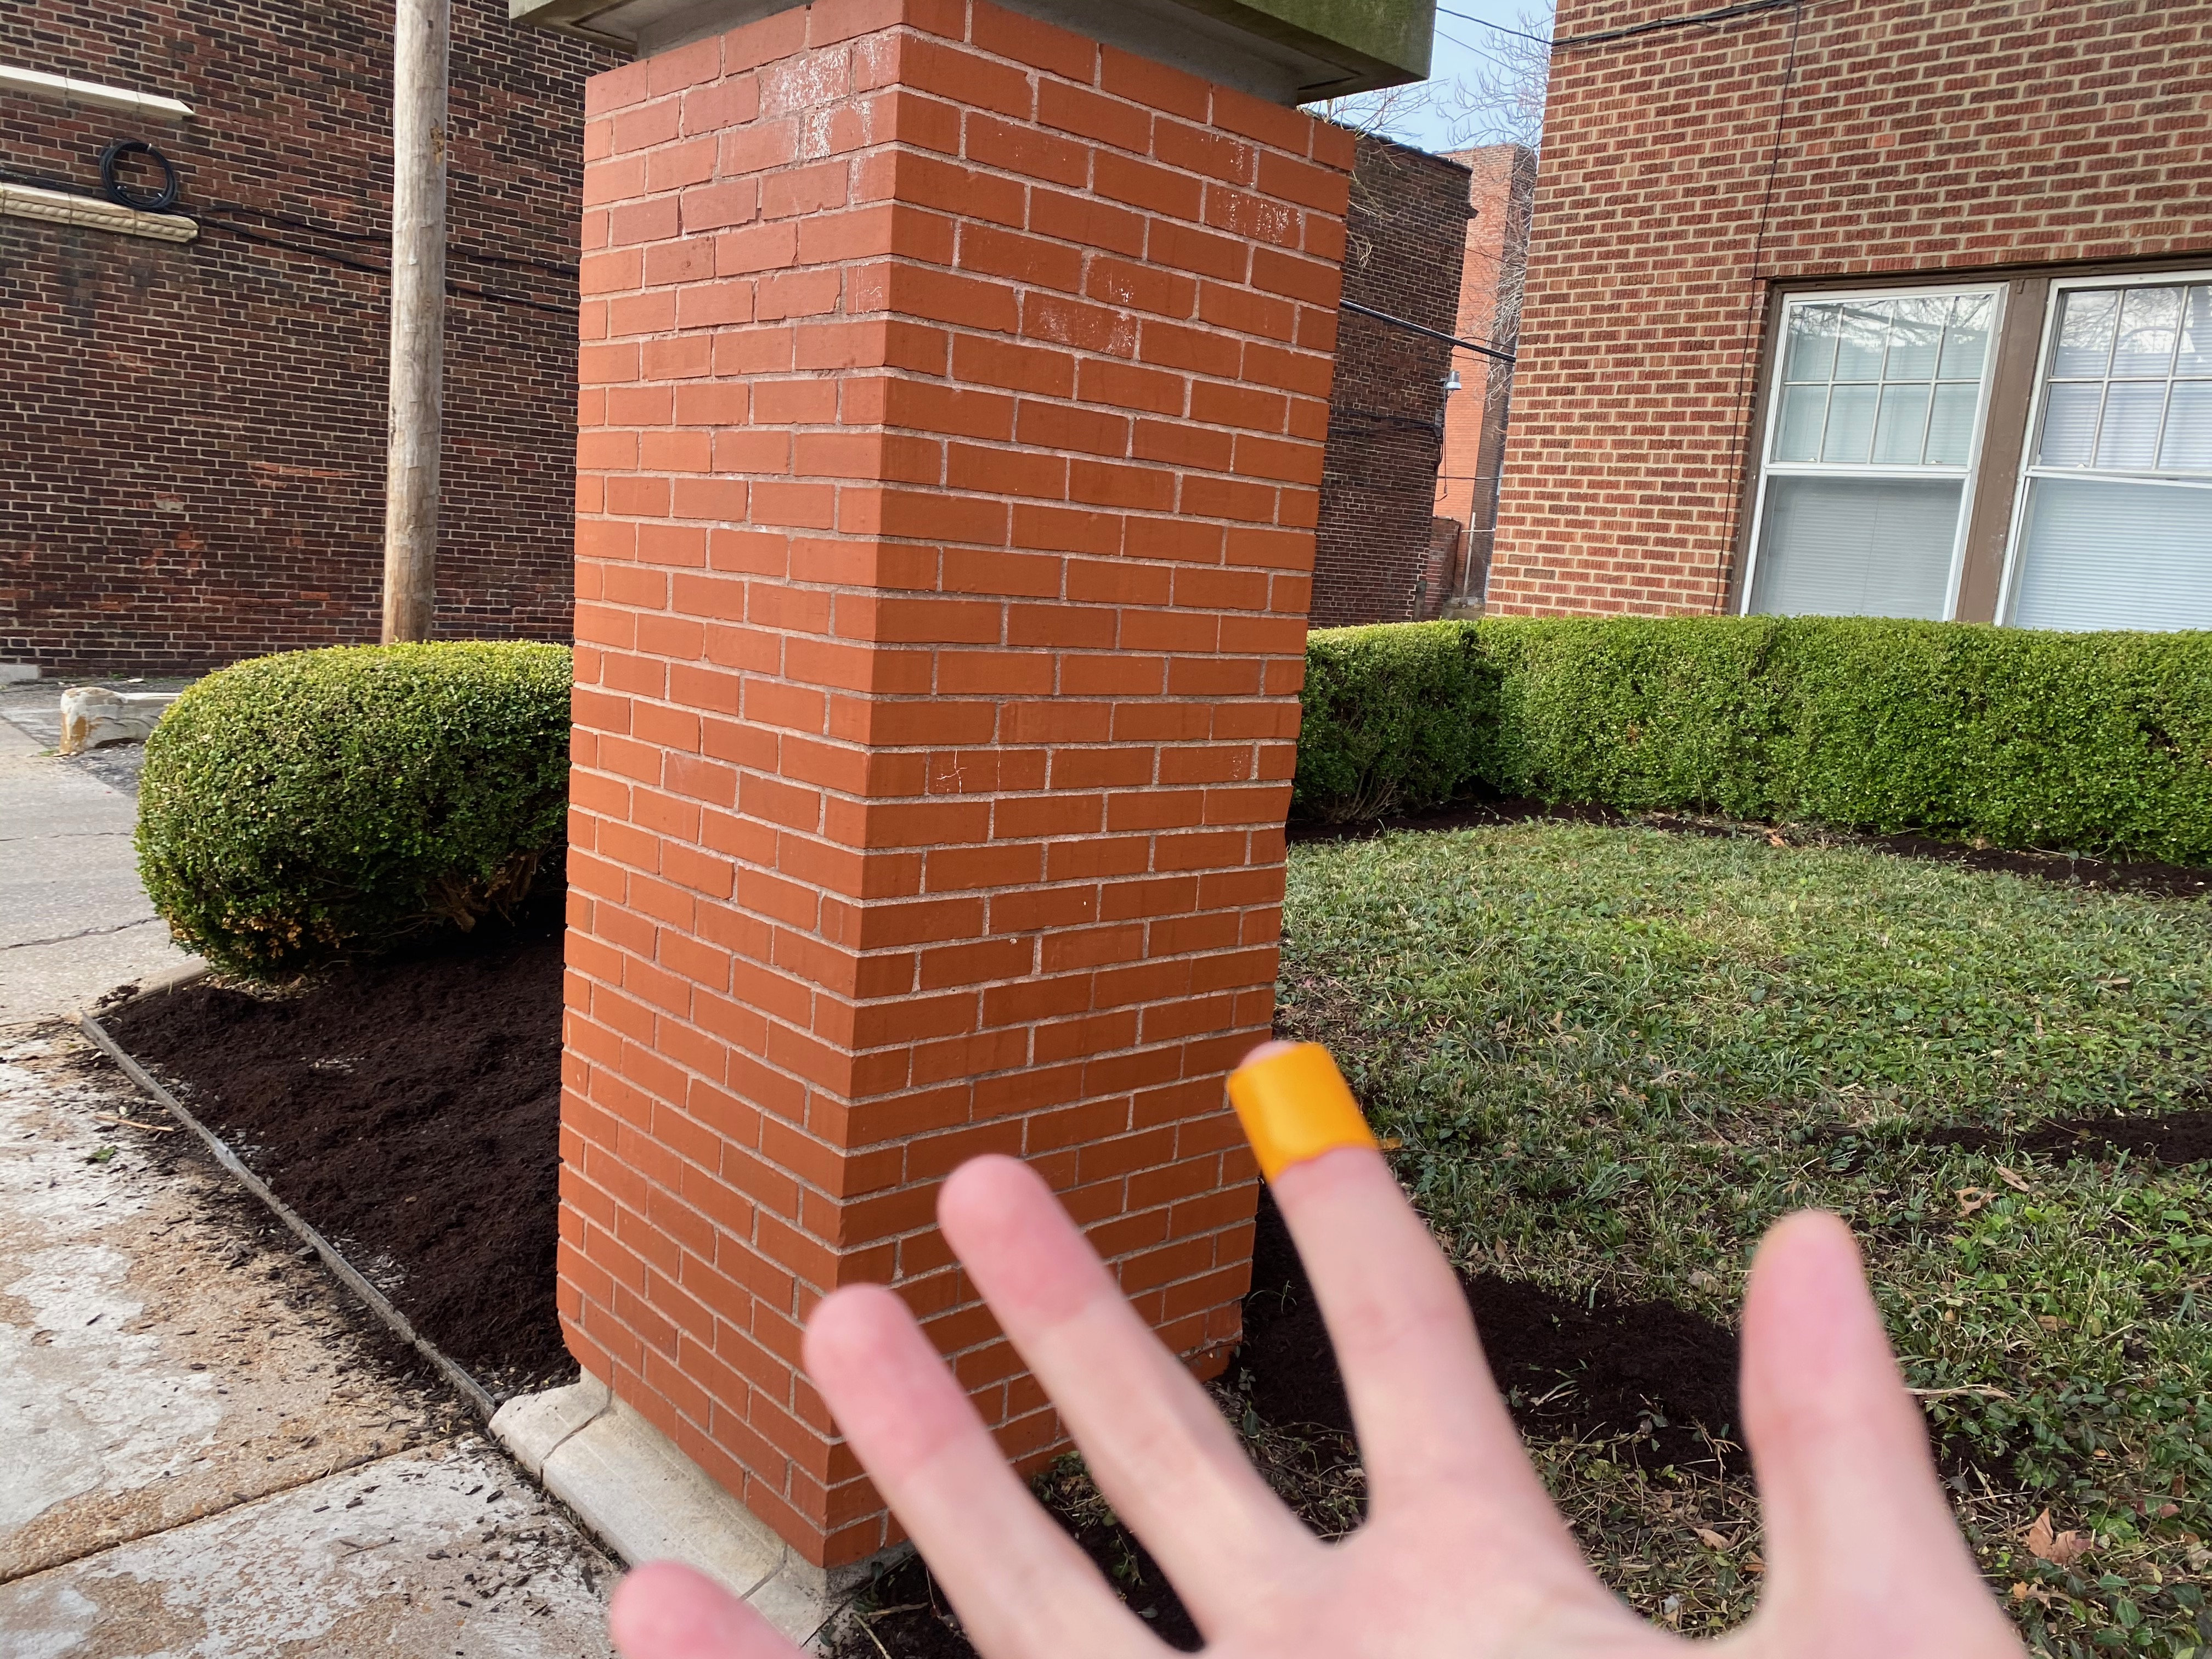fingertip: (1211, 1026, 1400, 1201)
